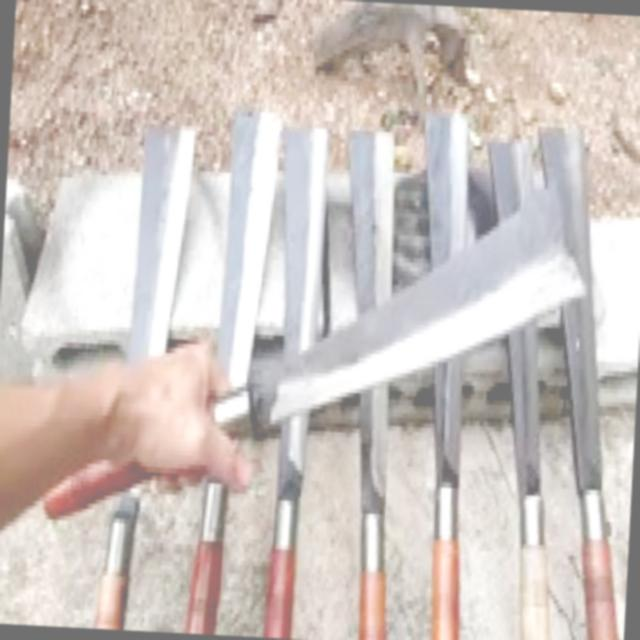eto: (42, 181, 587, 526)
